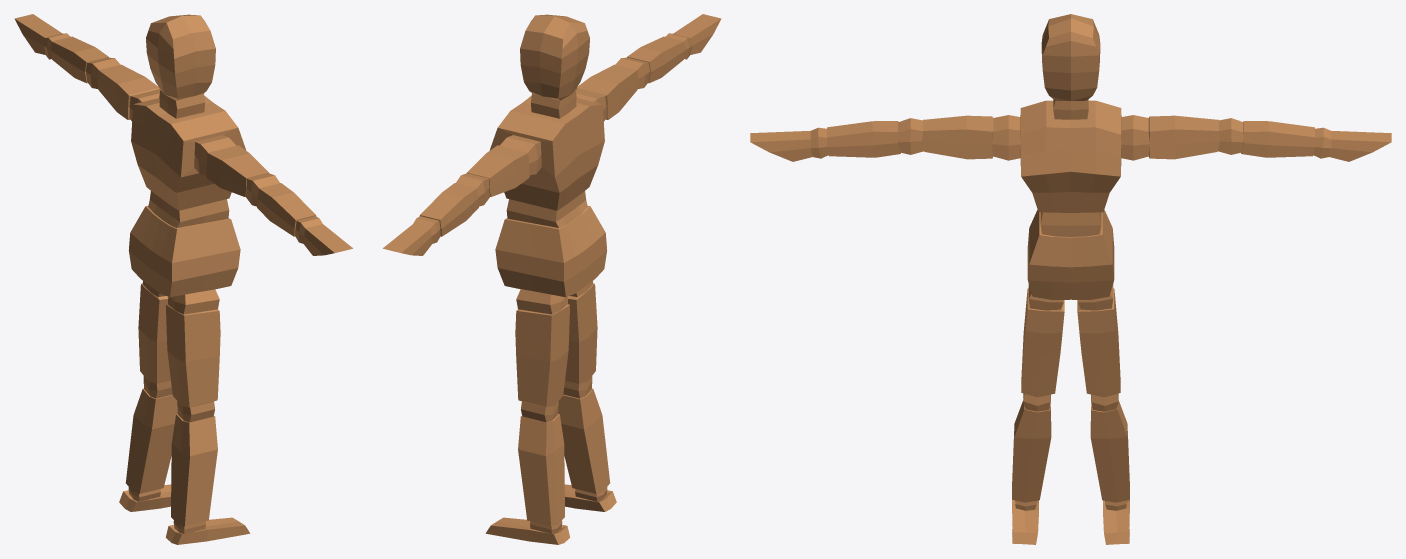
File: mannequin.glb
3 views of the same model, side by side, from view 1: azimuth 30°, elevation 25°; view 2: azimuth 150°, elevation 25°; view 3: azimuth 270°, elevation 25° (orthographic).
Visible parts, largest first — view 1: Cube; view 2: Cube; view 3: Cube.
Boxes of the visible parts, x1,y1,x2,y2 form: Cube: [14, 14, 352, 544]; Cube: [383, 14, 721, 544]; Cube: [750, 14, 1391, 544].
Bounding box in the file's own units: 0.2871 × 1.81 × 2.08.
